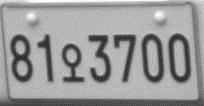0: (167, 33, 191, 82), (141, 32, 164, 82)
1: (35, 33, 55, 83)
3: (87, 33, 111, 82)
7: (112, 33, 137, 83)
8: (9, 34, 33, 81)
오: (61, 43, 85, 83)
